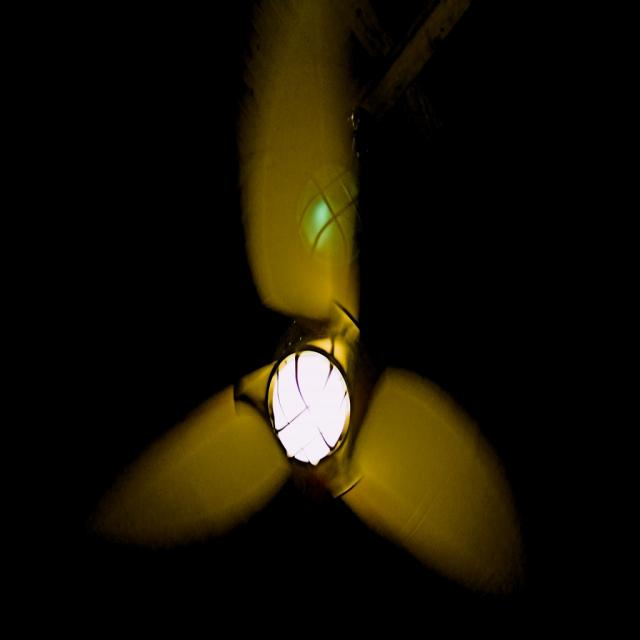Bulb: (105, 1, 532, 593)
